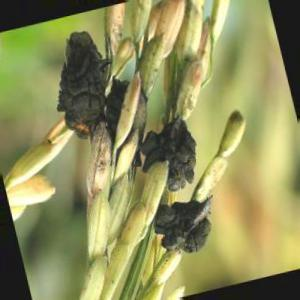Leaf_Scald: (65, 36, 104, 134), (150, 129, 196, 187), (160, 201, 206, 252)
